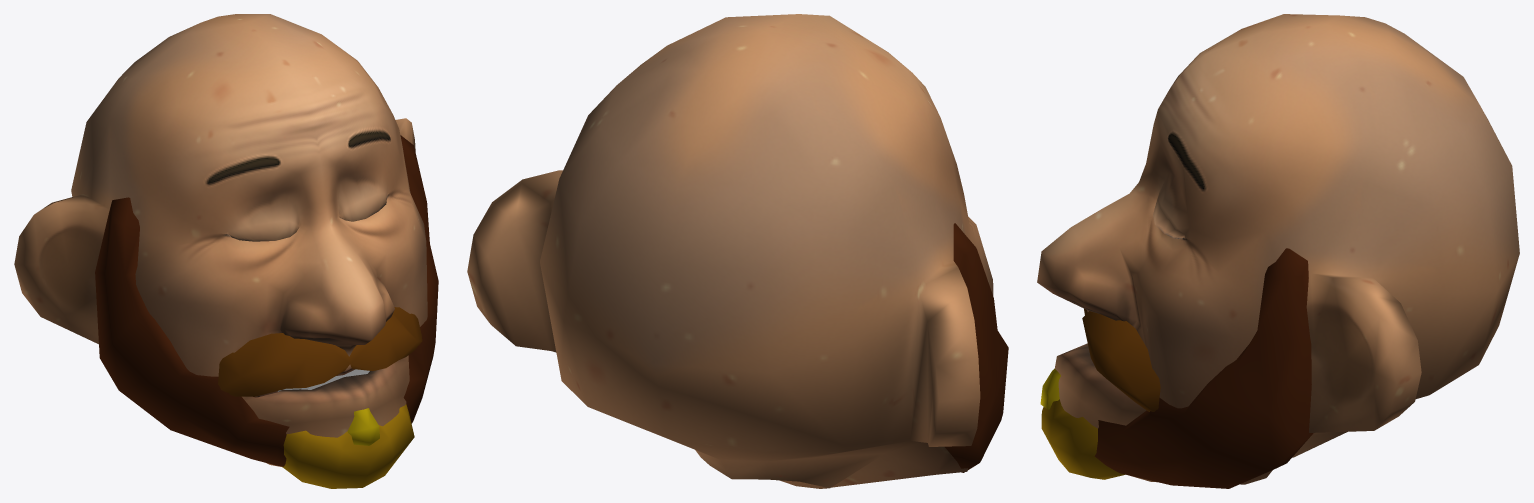
File: E_sitpose02.fbx
The picture shows the model from 3 angles, left to right: view 1: azimuth 30°, elevation 25°; view 2: azimuth 150°, elevation 25°; view 3: azimuth 270°, elevation 25°; orthographic projection. The views are drawn at different scales.
Parts seen in each view (by area): view 1: HEAD, BEARD; view 2: HEAD, BEARD; view 3: HEAD, BEARD.
Part boxes in pixels (box(x1,y1,x2,y2)): HEAD: box(14, 14, 427, 466); BEARD: box(95, 135, 438, 488); HEAD: box(467, 14, 993, 488); BEARD: box(945, 223, 1008, 472); HEAD: box(1037, 14, 1519, 484); BEARD: box(1040, 248, 1313, 488).
Size of the model in its own units: 27.45 by 25.24 by 24.9.
